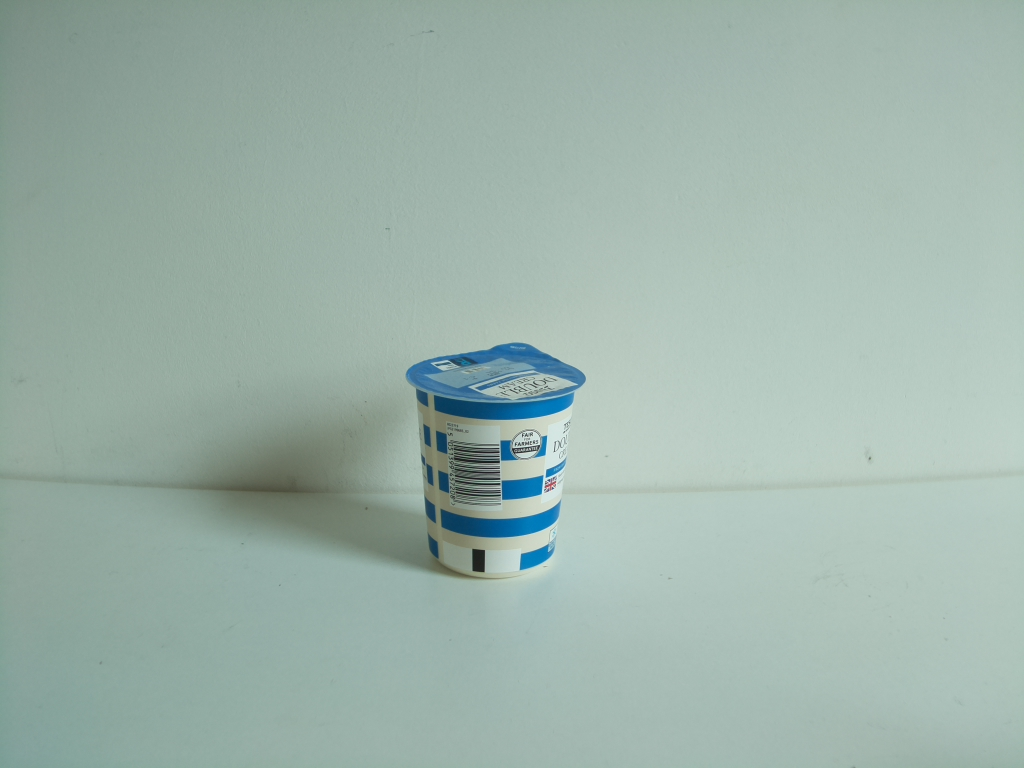cream: (405, 342, 589, 584)
